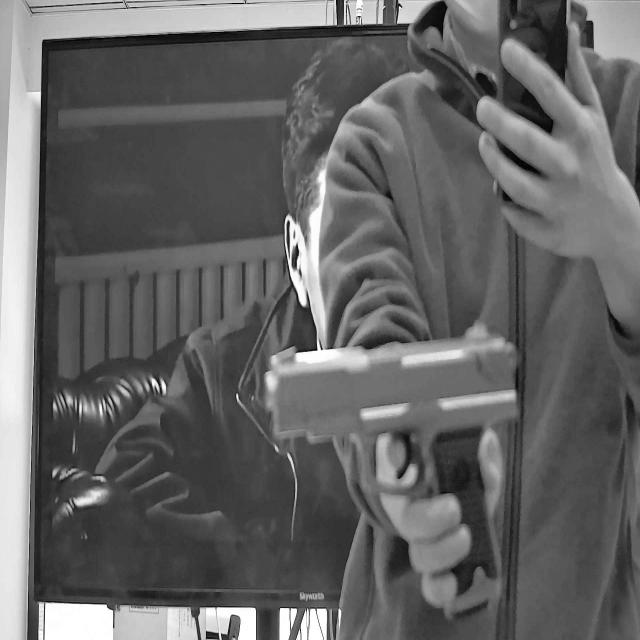Hand-Gun: (231, 277, 547, 600)
